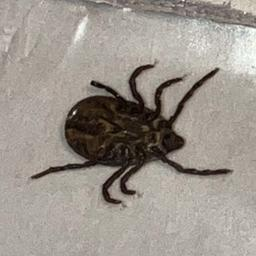Rhipicephalus sanguineus: (30, 64, 232, 203)
